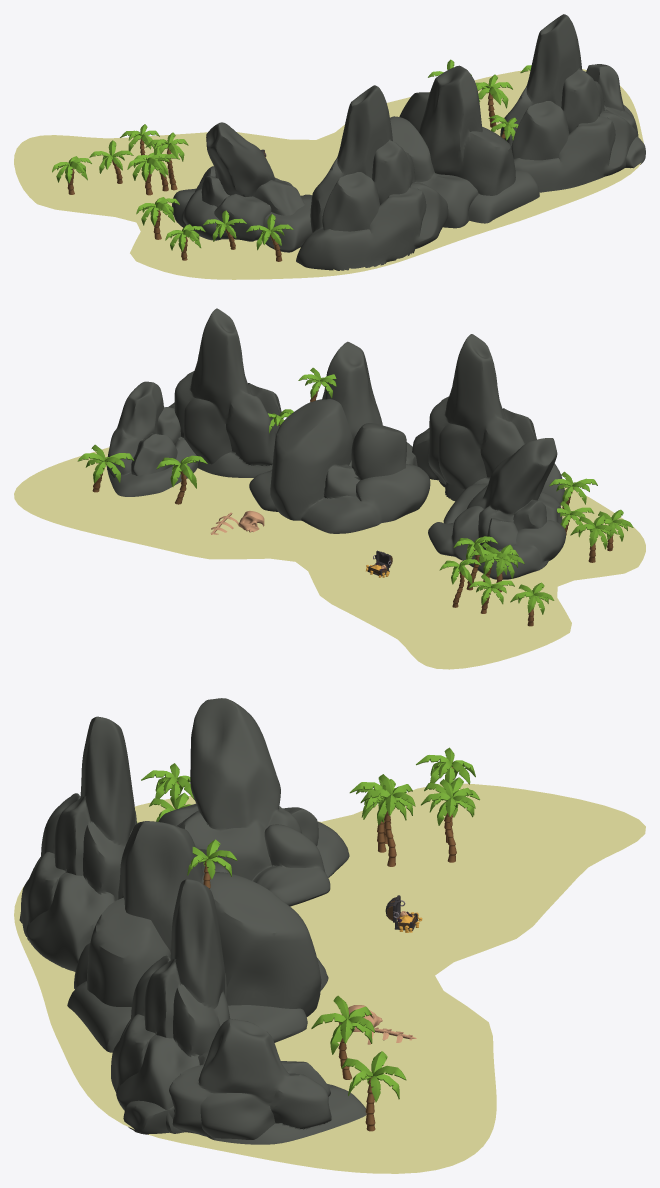
The model's file is Gameboard-3.glb.
3 views of the same model, one above another, from view 1: azimuth 30°, elevation 25°; view 2: azimuth 150°, elevation 25°; view 3: azimuth 270°, elevation 25° (orthographic). The views are drawn at different scales.
Parts seen in each view (by area): view 1: Circle, Environment_Cliff3, Environment_Cliff3.001, Environment_Cliff2, Environment_Cliff4, Environment_Cliff3.002, Environment_PalmTree_3.004, Environment_PalmTree_1.006, Environment_PalmTree_2.004, Environment_PalmTree_1.002, Environment_PalmTree_3.002, Environment_PalmTree_3 (+6 smaller); view 2: Circle, Environment_Cliff2, Environment_Cliff3.001, Environment_Cliff3, Environment_Cliff4, Environment_Cliff3.002, Environment_PalmTree_2.006, Environment_PalmTree_1.006, Environment_PalmTree_3.004, Environment_PalmTree_3, Environment_PalmTree_3.002, Environment_PalmTree_2.004 (+5 smaller); view 3: Circle, Environment_Cliff2, Environment_Cliff4, Environment_Cliff3, Environment_Cliff3.002, Environment_Cliff3.001, Environment_PalmTree_2.006, Environment_PalmTree_1.006, Environment_PalmTree_1.002, Environment_PalmTree_1, Environment_PalmTree_3, Environment_PalmTree_3.003 (+2 smaller).
Boxes of the visible parts, <box> form: Circle: <box>14,69,643,279</box>; Environment_Cliff3: <box>296,85,448,270</box>; Environment_Cliff3.001: <box>500,14,637,192</box>; Environment_Cliff2: <box>390,65,539,228</box>; Environment_Cliff4: <box>172,122,312,252</box>; Environment_Cliff3.002: <box>586,64,645,168</box>; Environment_PalmTree_3.004: <box>136,197,179,239</box>; Environment_PalmTree_1.006: <box>475,74,512,127</box>; Environment_PalmTree_2.004: <box>246,214,293,261</box>; Environment_PalmTree_1.002: <box>145,132,188,190</box>; Environment_PalmTree_3.002: <box>127,152,170,195</box>; Environment_PalmTree_3: <box>52,156,91,194</box>; Circle: <box>14,447,645,669</box>; Environment_Cliff2: <box>249,341,430,533</box>; Environment_Cliff3.001: <box>168,308,283,477</box>; Environment_Cliff3: <box>412,334,564,505</box>; Environment_Cliff4: <box>428,438,565,579</box>; Environment_Cliff3.002: <box>106,381,197,496</box>; Environment_PalmTree_2.006: <box>77,444,134,492</box>; Environment_PalmTree_1.006: <box>156,455,207,504</box>; Environment_PalmTree_3.004: <box>570,515,617,562</box>; Environment_PalmTree_3: <box>510,582,554,626</box>; Environment_PalmTree_3.002: <box>477,544,524,592</box>; Environment_PalmTree_2.004: <box>549,471,597,515</box>; Circle: <box>14,783,645,1173</box>; Environment_Cliff2: <box>67,821,328,1052</box>; Environment_Cliff4: <box>158,698,349,906</box>; Environment_Cliff3: <box>19,716,136,971</box>; Environment_Cliff3.002: <box>123,1019,366,1144</box>; Environment_Cliff3.001: <box>111,879,230,1133</box>; Environment_PalmTree_2.006: <box>341,1051,406,1131</box>; Environment_PalmTree_1.006: <box>311,995,374,1079</box>; Environment_PalmTree_1.002: <box>360,774,415,866</box>; Environment_PalmTree_1: <box>421,779,475,862</box>; Environment_PalmTree_3: <box>416,747,475,784</box>; Environment_PalmTree_3.003: <box>141,763,194,808</box>.
Size of what is drawn, in the model's own units: 42.31 by 12.08 by 28.9.
Materials: 4 (3 with a texture image).
